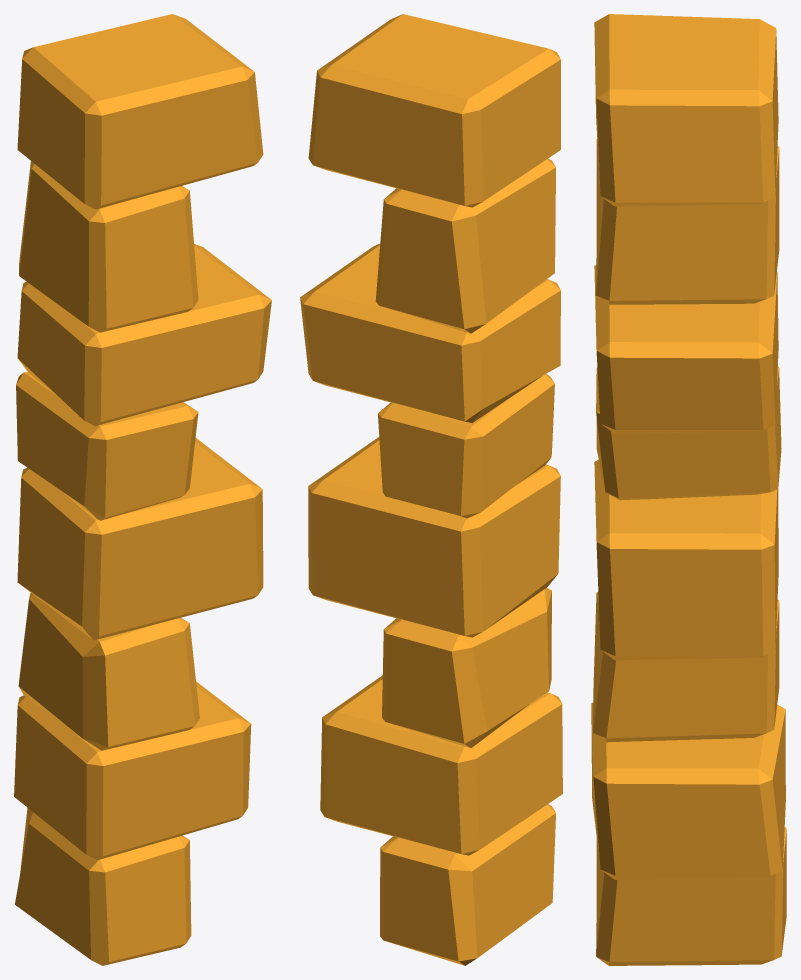
The model's file is SM_Wall_Thick_End_Stone_3m_Fantasy.fbx.
3 views of the same model, side by side, from view 1: azimuth 30°, elevation 25°; view 2: azimuth 150°, elevation 25°; view 3: azimuth 270°, elevation 25° (orthographic). The views are drawn at different scales.
Visible parts, largest first — view 1: SM_Wall_Thick_End_Stone_3m_Fantasy; view 2: SM_Wall_Thick_End_Stone_3m_Fantasy; view 3: SM_Wall_Thick_End_Stone_3m_Fantasy.
Boxes of the visible parts, x1,y1,x2,y2 form: SM_Wall_Thick_End_Stone_3m_Fantasy: [14, 14, 271, 965]; SM_Wall_Thick_End_Stone_3m_Fantasy: [300, 14, 562, 965]; SM_Wall_Thick_End_Stone_3m_Fantasy: [591, 14, 786, 965].
Bounding box in the file's own units: 0.6921 × 3.01 × 0.5861.
